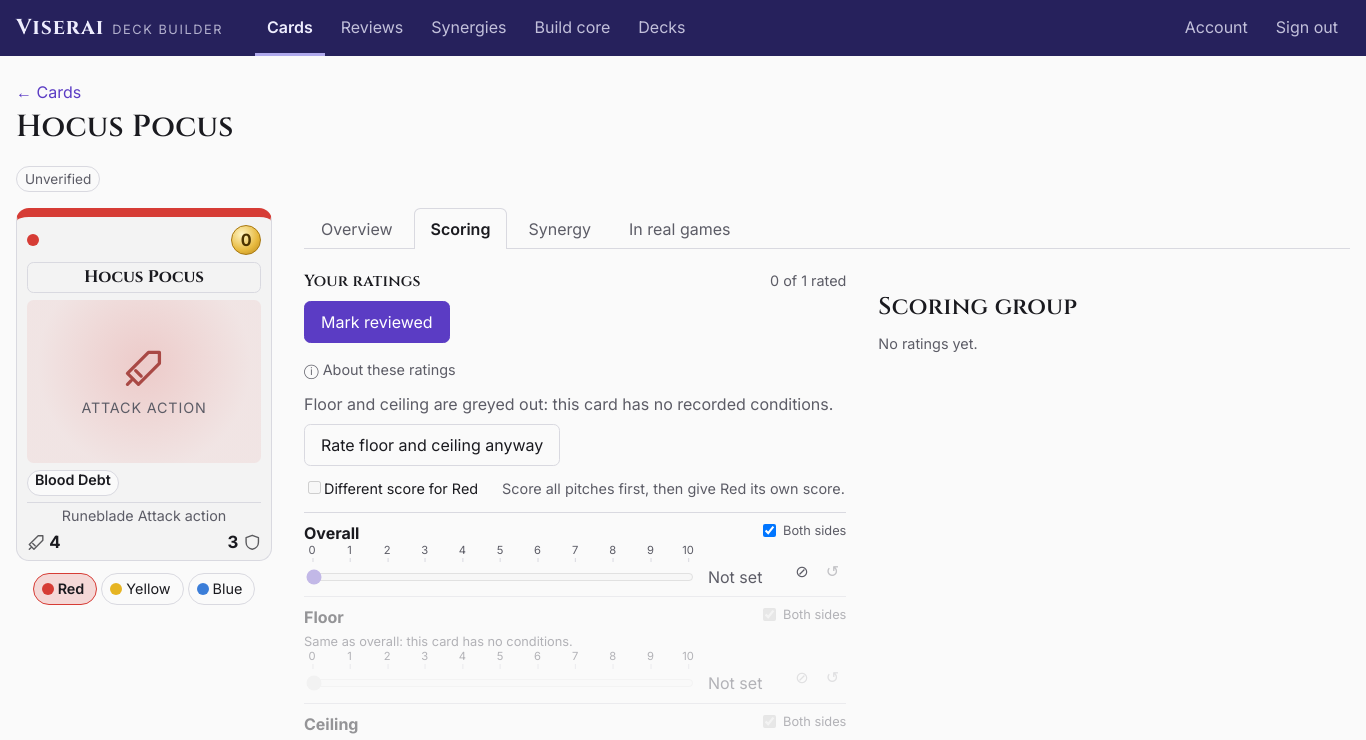
Mark reviewed › records the review immediately and debounces community recalculation
The width and height of the screenshot is (1366, 740).
Click the button "Mark reviewed" at (377, 322), box [304,301,450,343]
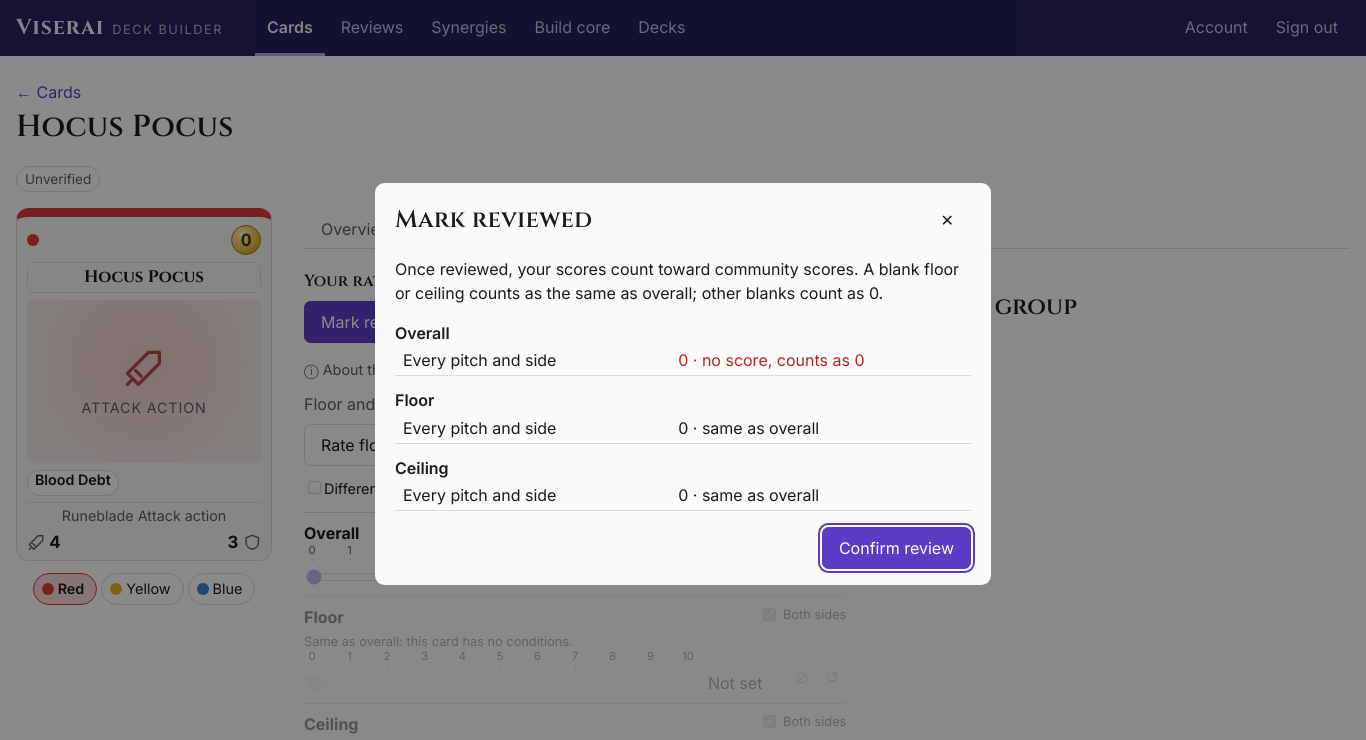
Click the button "Confirm review" at (896, 548), box [822,527,971,569]
Wait 30000 ms
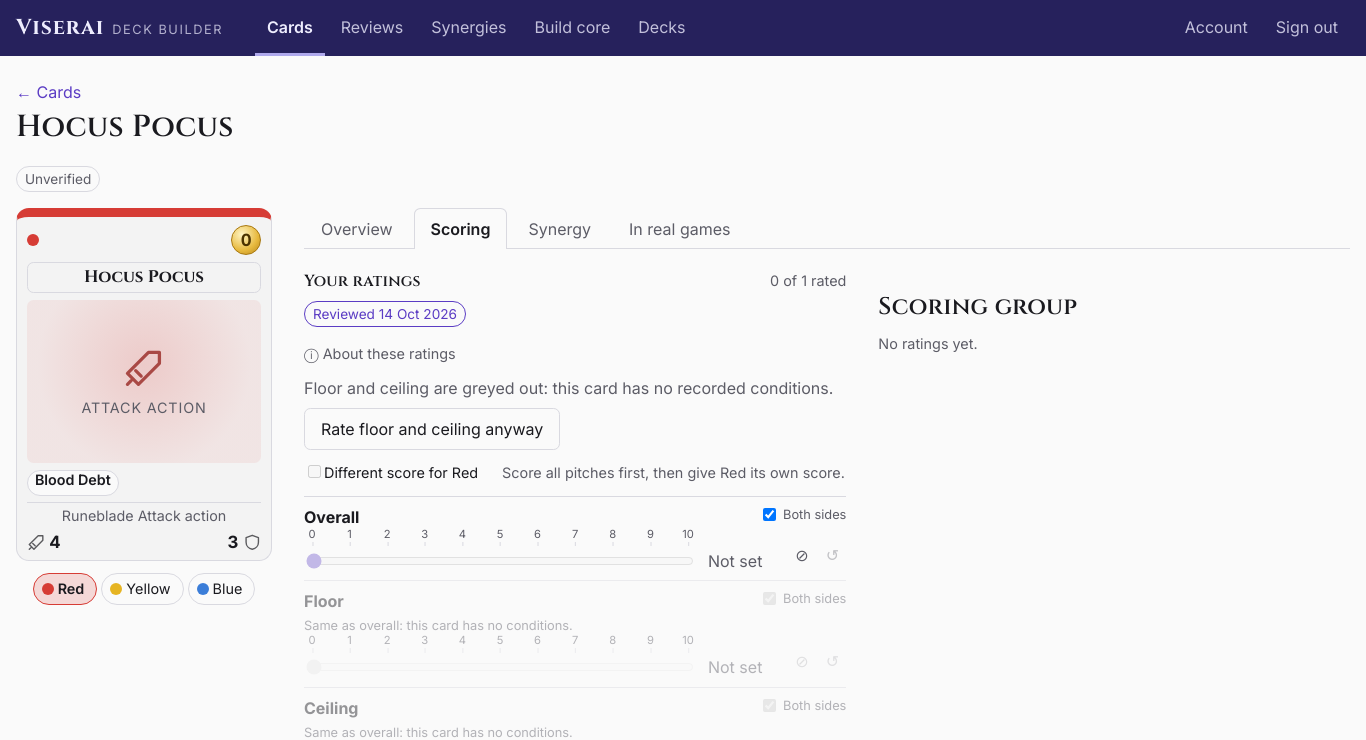
Expected: the text "Reviewed 14 Oct 2026" is shown, [304,301,466,327]
Expected: the dialog is gone
